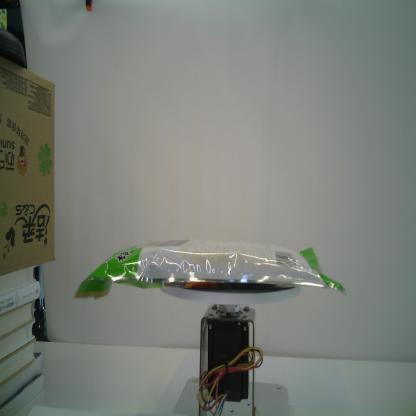Dried Food: (72, 238, 348, 300)
